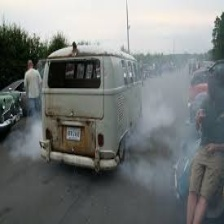smoke: (127, 94, 164, 178), (19, 123, 46, 162)
